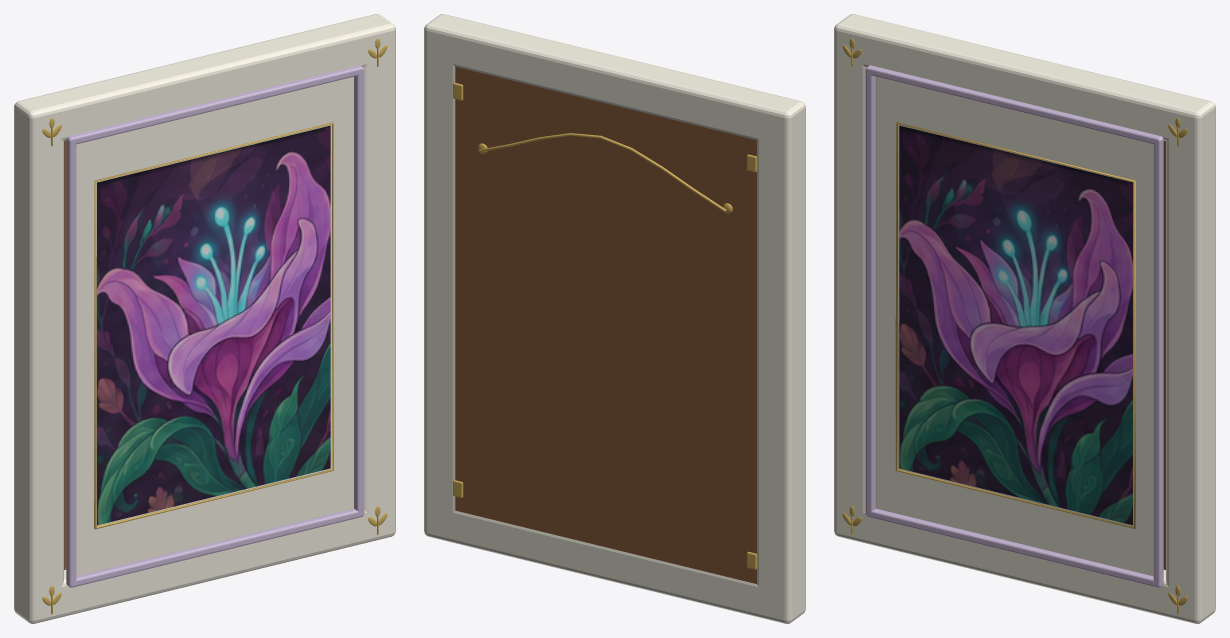
Rendered from framed_botanical_xeno.glb.
The picture shows the model from 3 angles, left to right: view 1: azimuth 30°, elevation 25°; view 2: azimuth 150°, elevation 25°; view 3: azimuth 330°, elevation 25°; orthographic projection.
Visible parts, largest first — view 1: Flat_botanical_painting, Linen_mat, Stepped_frame_vertical, Stepped_frame_vertical.001, Stepped_frame_horizontal.001, Stepped_frame_horizontal, Inner_vertical_bead, Inner_vertical_bead.001, Inner_horizontal_bead, Inner_horizontal_bead.001, Fine_edge, Sealed_backboard; view 2: Sealed_backboard, Stepped_frame_vertical, Stepped_frame_vertical.001, Stepped_frame_horizontal.001, Stepped_frame_horizontal, Rear_hanging_wire; view 3: Flat_botanical_painting, Linen_mat, Stepped_frame_vertical.001, Stepped_frame_vertical, Stepped_frame_horizontal.001, Stepped_frame_horizontal, Inner_vertical_bead.001, Inner_vertical_bead, Fine_edge, Inner_horizontal_bead, Inner_horizontal_bead.001, Sealed_backboard.
Part boxes in pixels (<box>): Flat_botanical_painting: <box>97,125,330,525</box>; Linen_mat: <box>76,76,353,576</box>; Stepped_frame_vertical: <box>14,95,63,623</box>; Stepped_frame_vertical.001: <box>351,14,395,542</box>; Stepped_frame_horizontal.001: <box>37,20,376,140</box>; Stepped_frame_horizontal: <box>50,510,377,618</box>; Inner_vertical_bead: <box>66,137,76,586</box>; Inner_vertical_bead.001: <box>354,68,364,515</box>; Inner_horizontal_bead: <box>70,508,363,587</box>; Inner_horizontal_bead.001: <box>67,65,363,144</box>; Fine_edge: <box>94,122,333,529</box>; Sealed_backboard: <box>64,140,66,569</box>; Sealed_backboard: <box>455,67,756,583</box>; Stepped_frame_vertical: <box>757,95,805,623</box>; Stepped_frame_vertical.001: <box>424,14,468,542</box>; Stepped_frame_horizontal.001: <box>442,20,775,140</box>; Stepped_frame_horizontal: <box>442,510,769,619</box>; Rear_hanging_wire: <box>478,133,726,211</box>; Flat_botanical_painting: <box>899,125,1132,525</box>; Linen_mat: <box>876,76,1153,576</box>; Stepped_frame_vertical.001: <box>1166,95,1215,623</box>; Stepped_frame_vertical: <box>834,14,878,542</box>; Stepped_frame_horizontal.001: <box>852,20,1185,140</box>; Stepped_frame_horizontal: <box>852,510,1179,619</box>; Inner_vertical_bead.001: <box>1153,137,1163,586</box>; Inner_vertical_bead: <box>865,68,875,515</box>; Fine_edge: <box>895,122,1135,528</box>; Inner_horizontal_bead: <box>866,508,1159,587</box>; Inner_horizontal_bead.001: <box>866,65,1162,144</box>; Sealed_backboard: <box>1163,140,1165,569</box>.
Bounding box in the file's own units: 0.6 × 0.8 × 0.077.
6 materials, 1 textured.
